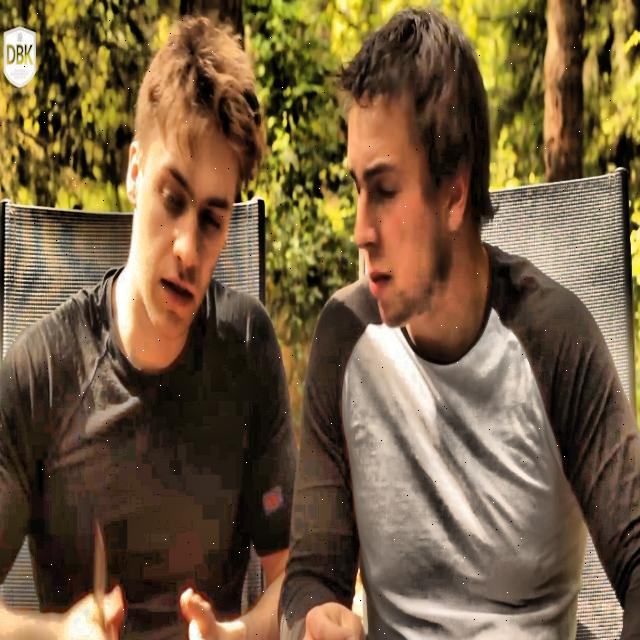knife: (92, 520, 104, 626)
